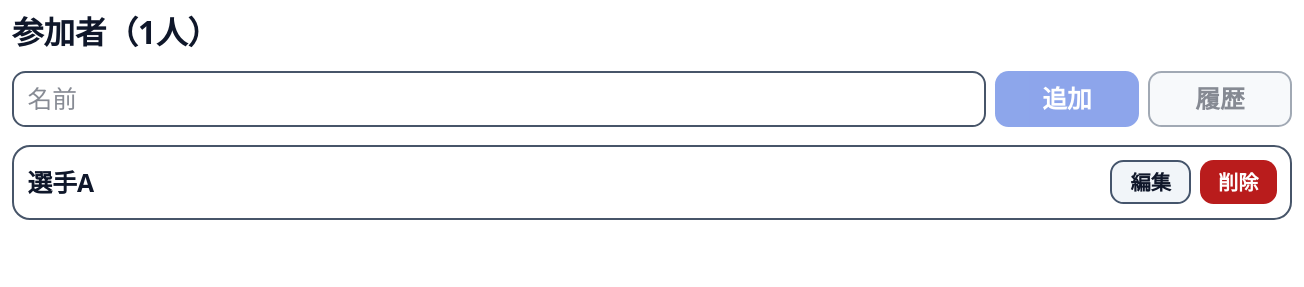
Scenario: ParticipantsTab › 編集中に空入力にすると保存ボタンが disabled になる
Click the button "編集" at point(1151, 182), box [1110,160,1191,204]
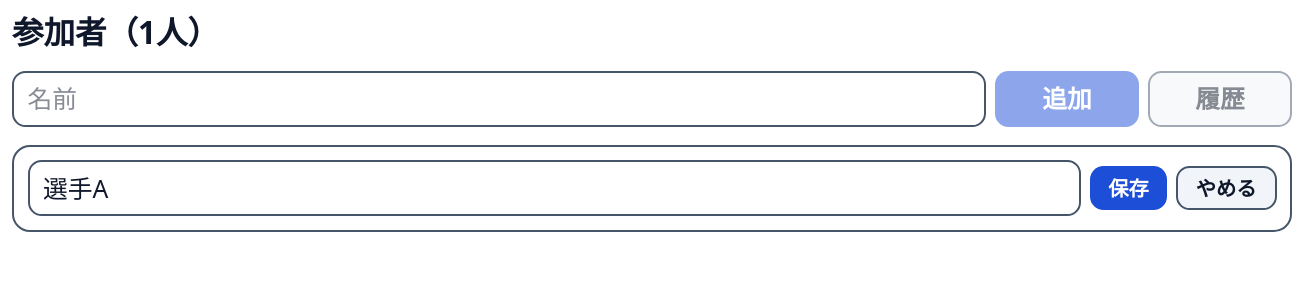
Clear the field named "参加者名を編集" at point(554, 188), box [28,160,1081,216]
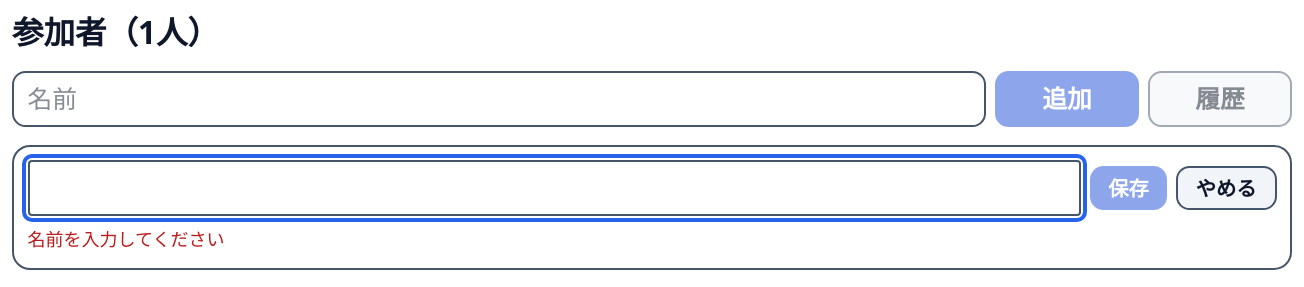
Check: the button "保存" is disabled, box [1090,166,1167,210]
